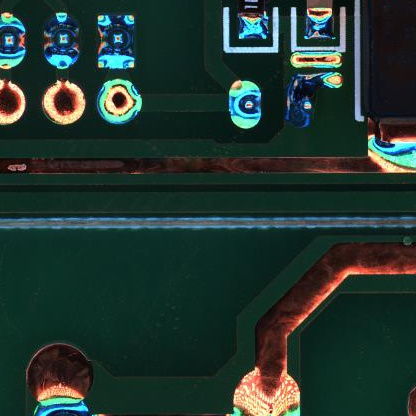spot: (93, 11, 137, 72), (43, 10, 80, 69), (227, 76, 263, 129), (1, 14, 29, 71)
